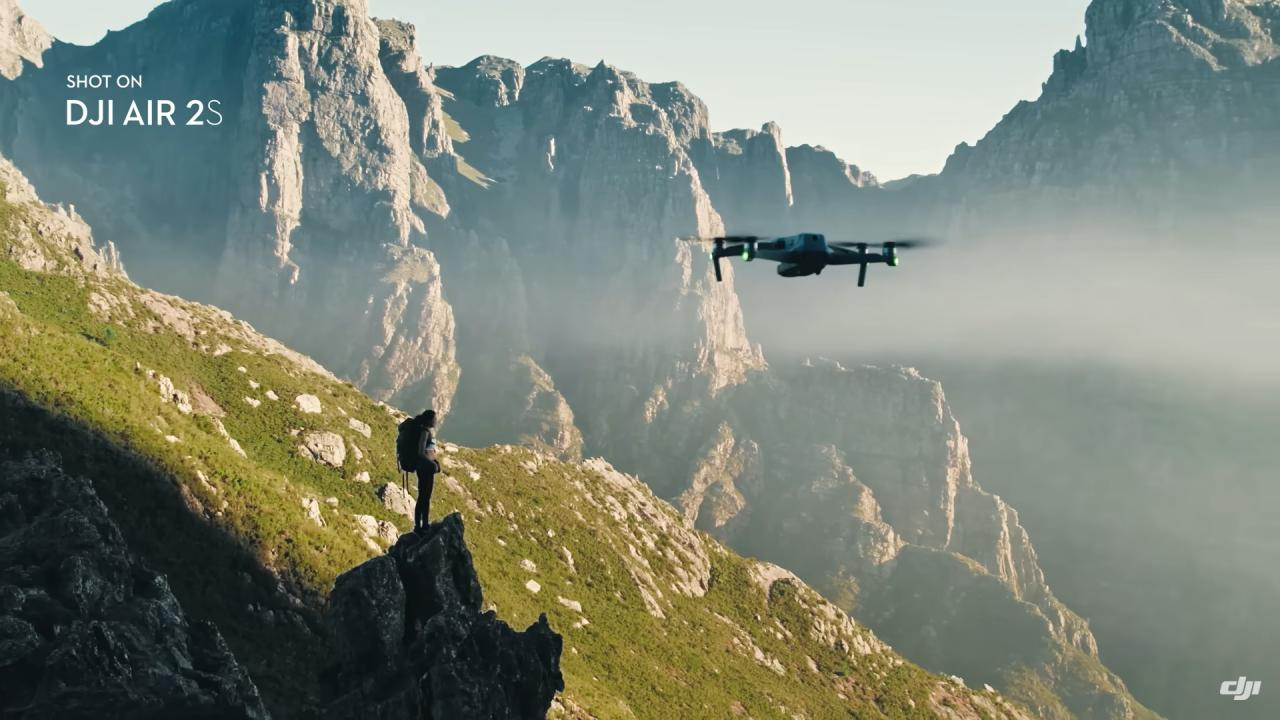Drone: (672, 212, 959, 302)
